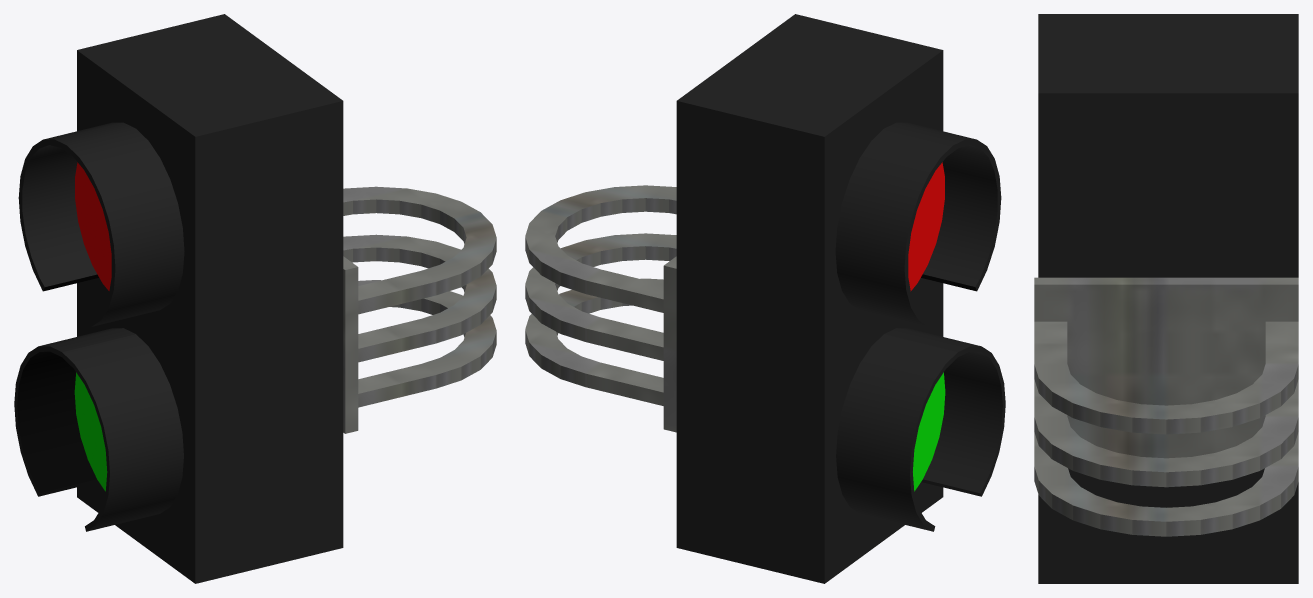
The model's file is semaforo.fbx.
3 renders of one model, left to right at view 1: azimuth 30°, elevation 25°; view 2: azimuth 150°, elevation 25°; view 3: azimuth 270°, elevation 25°, orthographic. The views are drawn at different scales.
Parts seen in each view (by area): view 1: Componente_29_1, Al_a1, Al_a3, Al_a2, Componente_1_1; view 2: Componente_29_1, Al_a1, Al_a3, Al_a2, Componente_1_1; view 3: Componente_29_1, Componente_1_1, Al_a1, Al_a3, Al_a2.
Boxes of the visible parts, left/top/right/bottom form: Componente_29_1: left=14, top=14, right=343, bottom=583; Al_a1: left=343, top=186, right=496, bottom=314; Al_a3: left=343, top=234, right=496, bottom=362; Al_a2: left=358, top=280, right=496, bottom=407; Componente_1_1: left=343, top=256, right=358, bottom=433; Componente_29_1: left=676, top=14, right=1005, bottom=583; Al_a1: left=525, top=185, right=676, bottom=312; Al_a3: left=525, top=233, right=676, bottom=360; Al_a2: left=525, top=278, right=663, bottom=405; Componente_1_1: left=663, top=256, right=676, bottom=432; Componente_29_1: left=1038, top=14, right=1298, bottom=583; Componente_1_1: left=1034, top=277, right=1298, bottom=458; Al_a1: left=1034, top=321, right=1298, bottom=434; Al_a3: left=1034, top=379, right=1298, bottom=487; Al_a2: left=1034, top=432, right=1298, bottom=536.
Bounding box in the file's own units: 320 × 328 × 160.
